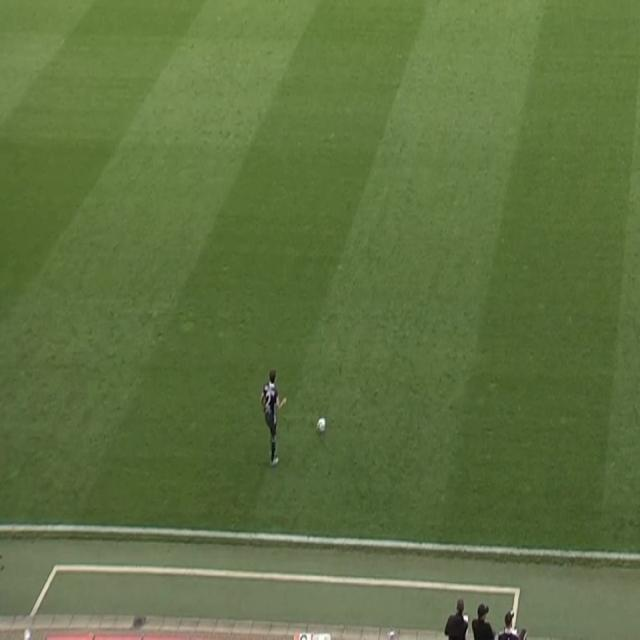ball: (316, 417, 327, 435)
